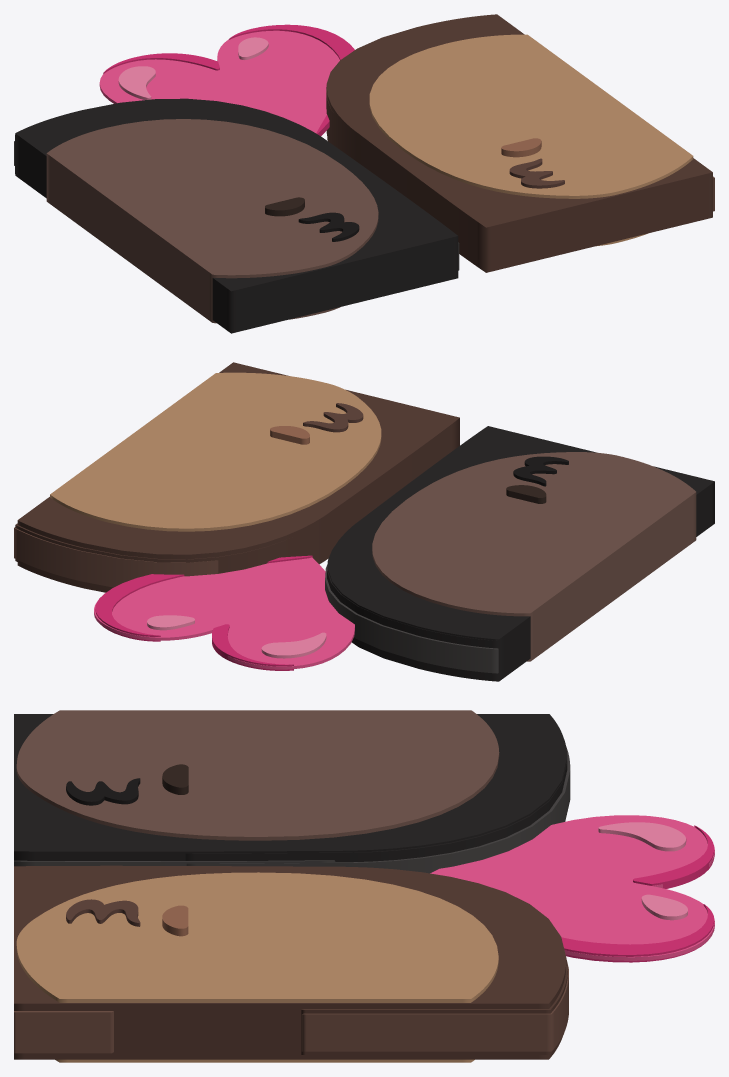
The model's file is emoji_u1f469_1f3ff_200d_2764_200d_1f48b_200d_1f469_1f3fd.glb.
3 views of the same model, one above another, from view 1: azimuth 30°, elevation 25°; view 2: azimuth 150°, elevation 25°; view 3: azimuth 270°, elevation 25° (orthographic). The views are drawn at different scales.
Visible parts, largest first — view 1: emoji_u1f469_1f3ff_200d_2764_200d_1f48b_200d_1f469_1f3fd; view 2: emoji_u1f469_1f3ff_200d_2764_200d_1f48b_200d_1f469_1f3fd; view 3: emoji_u1f469_1f3ff_200d_2764_200d_1f48b_200d_1f469_1f3fd.
Boxes of the visible parts, x1=… form: emoji_u1f469_1f3ff_200d_2764_200d_1f48b_200d_1f469_1f3fd: x1=14, y1=14, x2=714, y2=333; emoji_u1f469_1f3ff_200d_2764_200d_1f48b_200d_1f469_1f3fd: x1=14, y1=362, x2=714, y2=681; emoji_u1f469_1f3ff_200d_2764_200d_1f48b_200d_1f469_1f3fd: x1=14, y1=710, x2=714, y2=1062.
Bounding box in the file's own units: 0.0336 × 0.0042 × 0.0339.
